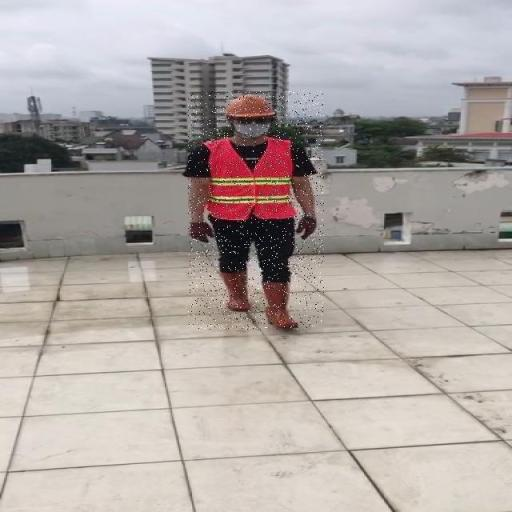Boots: (263, 280, 300, 330), (220, 270, 252, 310)
Helmet: (220, 94, 282, 120)
Person: (188, 92, 324, 330)
